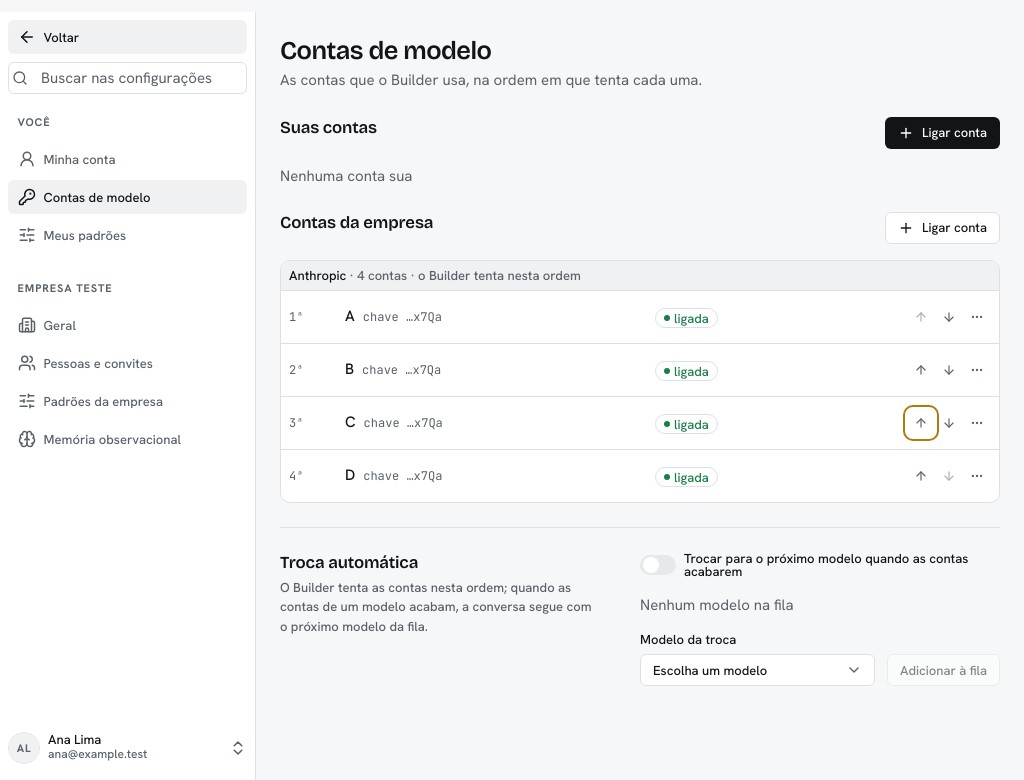
Test case: as setas ficam nas pontas desabilitadas, mandam a ordem inteira e o foco fica na seta usada
The width and height of the screenshot is (1024, 780).
Expected: the button named "Subir A" is disabled, [907, 303, 935, 331]
Expected: the button named "Descer D" is disabled, [935, 462, 963, 490]
Click the button named "Subir C": (921,423) [907, 409, 935, 437]
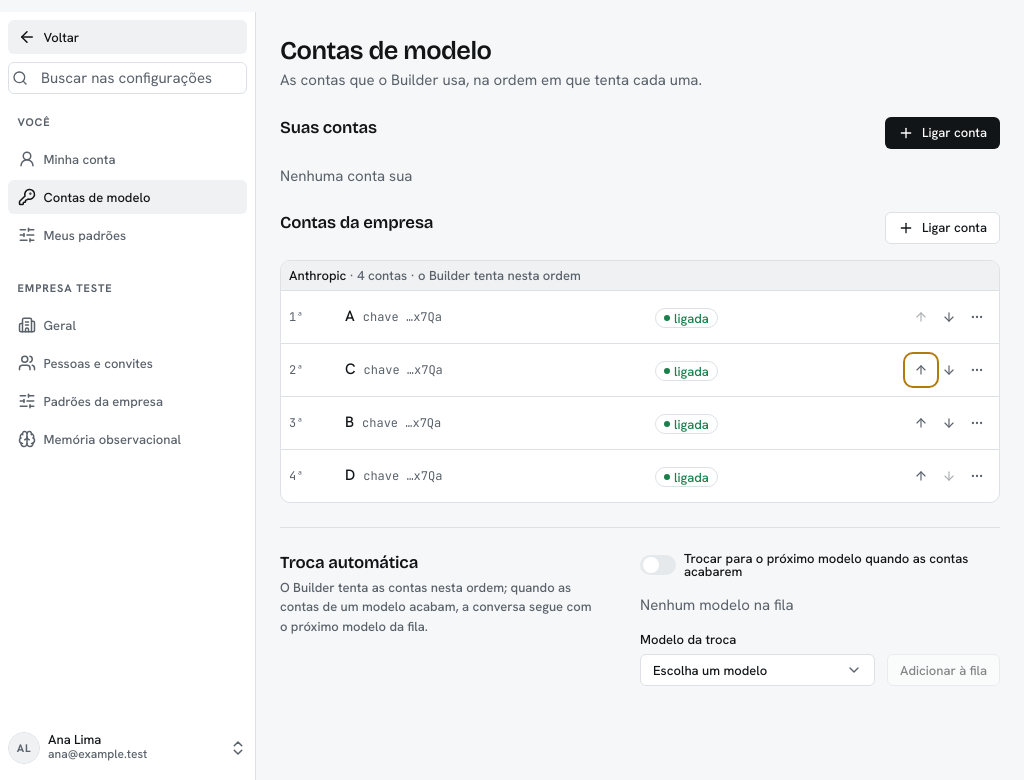
Click the button named "Subir C": (921,370) [907, 356, 935, 384]
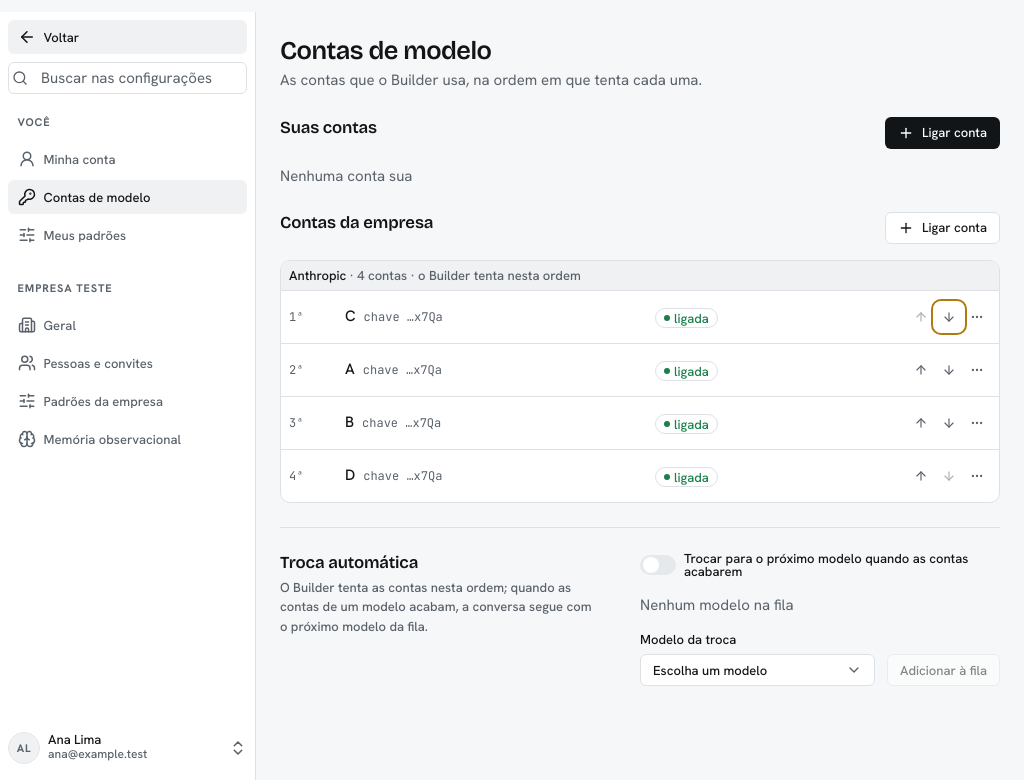
Now the button named "Subir C" is disabled, box [907, 303, 935, 331]
